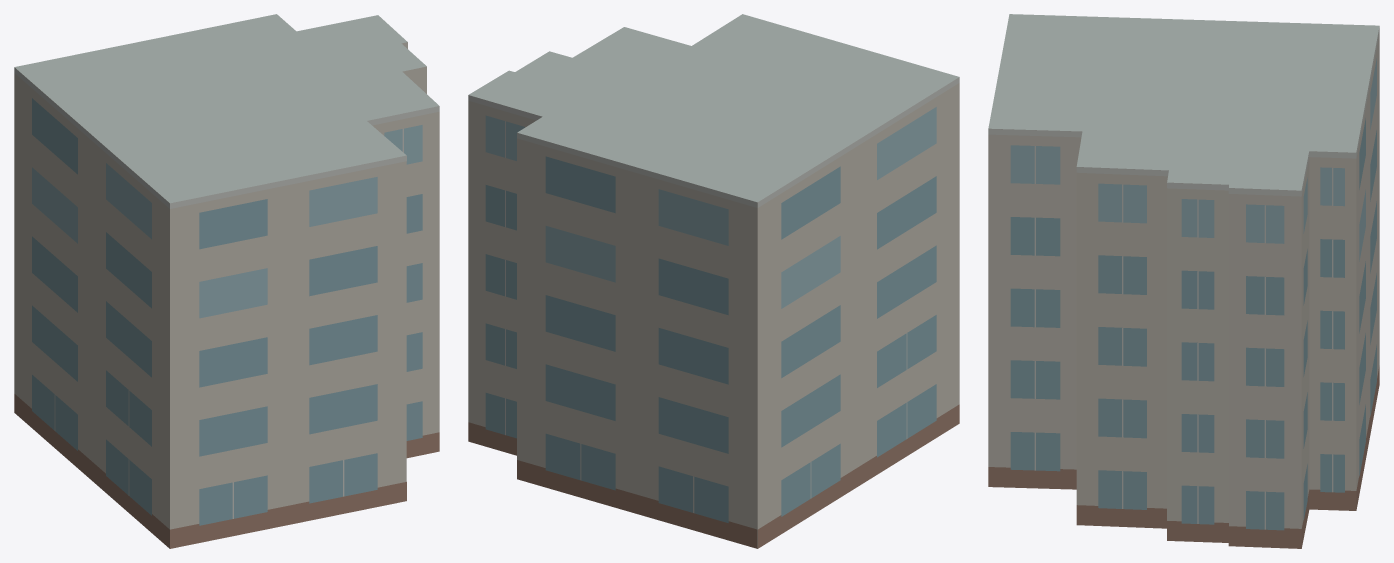
The model's file is survey-upis-32590599.glb.
3 views of the same model, side by side, from view 1: azimuth 30°, elevation 25°; view 2: azimuth 150°, elevation 25°; view 3: azimuth 270°, elevation 25° (orthographic). The views are drawn at different scales.
Parts seen in each view (by area): view 1: survey-upis-32590599.tmp; view 2: survey-upis-32590599.tmp; view 3: survey-upis-32590599.tmp.
Part boxes in pixels (box(x1,y1,x2,y2)): survey-upis-32590599.tmp: box(14, 14, 439, 548); survey-upis-32590599.tmp: box(468, 14, 959, 548); survey-upis-32590599.tmp: box(988, 14, 1379, 548).
Bounding box in the file's own units: 15.66 × 14.8 × 14.66.
